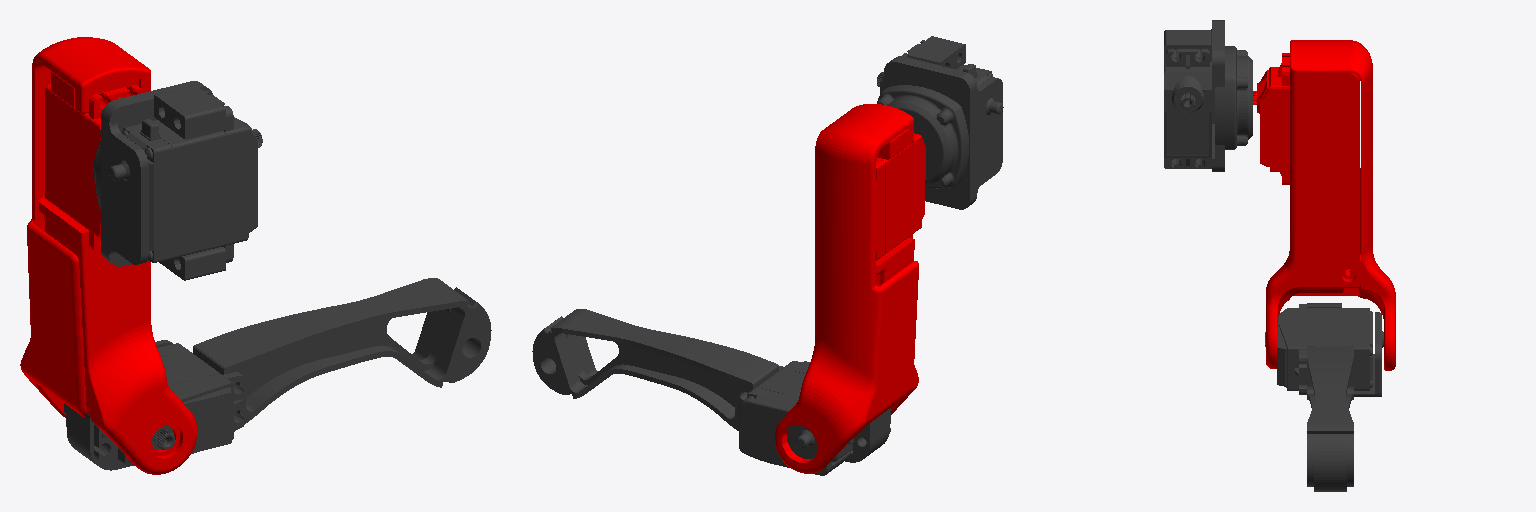
URDF robot description (left_leg_demo.urdf):
<?xml version="1.0" encoding="utf-8"?>
<!-- This URDF was automatically created by SolidWorks to URDF Exporter! Originally created by [author] ([email redacted]) 
     Commit Version: 1.6.0-4-g7f85cfe  Build Version: 1.6.7995.38578
     For more information, please see http://wiki.ros.org/sw_urdf_exporter -->
<robot
  name="left_leg_demo.urdf">
  <link
    name="base_link">
    <inertial>
      <origin
        xyz="0.00091789 -0.022241 0.00058415"
        rpy="-1.5708 0 0" />
      <mass
        value="0.060451" />
      <inertia
        ixx="1.5056E-05"
        ixy="-4.6406E-07"
        ixz="-1.2881E-08"
        iyy="1.9727E-05"
        iyz="5.0733E-08"
        izz="1.1321E-05" />
    </inertial>
    <visual>
      <origin
        xyz="0 0 0"
        rpy="-1.5708 0 0" />
      <geometry>
        <mesh
          filename="package://left_leg_demo/meshes/base_link.STL" /> <!-- TO DO-->
      </geometry>
      <material
        name="">
        <color
          rgba="0.3 0.3 0.3 1" />
      </material>
    </visual>
    <collision>
      <origin
        xyz="0 0 0"
        rpy="-1.5708 0 0" />
      <geometry>
        <mesh
          filename="package://left_leg_demo/meshes/base_link.STL" /> <!-- TO DO-->
      </geometry>
    </collision>
  </link>
  <link
    name="link_1">
    <inertial>
      <origin
        xyz="0.037666 0.0015824 -0.029923"
        rpy="0 0 0" />
      <mass
        value="0.11486" />
      <inertia
        ixx="1.9622E-05"
        ixy="1.6714E-06"
        ixz="6.5622E-07"
        iyy="0.00010977"
        iyz="7.3672E-07"
        izz="0.00010318" />
    </inertial>
    <visual>
      <origin
        xyz="0 0 0"
        rpy="0 0 0" />
      <geometry>
        <mesh
          filename="package://left_leg_demo/meshes/link_1.STL" /> <!-- TO DO-->
      </geometry>
      <material
        name="">
        <color
          rgba="1 0 0 1" />
      </material>
    </visual>
    <collision>
      <origin
        xyz="0 0 0"
        rpy="0 0 0" />
      <geometry>
        <mesh
          filename="package://left_leg_demo/meshes/link_1.STL" /> <!-- TO DO-->
      </geometry>
    </collision>
  </link>
  <joint
    name="joint_1"
    type="revolute">
    <origin
      xyz="0 0 0"
      rpy="3.1416 1.5708 1.5708" />
    <parent
      link="base_link" />
    <child
      link="link_1" />
    <axis
      xyz="0 0 -1" />
    <limit
      lower="-1.57"
      upper="1.57"
      effort="300"
      velocity="3" />
  </joint>
  <link
    name="link_2">
    <inertial>
      <origin
        xyz="0.02949 -0.027733 0.00049728"
        rpy="0 0 0" />
      <mass
        value="0.063194" />
      <inertia
        ixx="9.9875E-06"
        ixy="-3.2253E-06"
        ixz="3.6053E-06"
        iyy="7.0496E-05"
        iyz="2.9585E-07"
        izz="7.3609E-05" />
    </inertial>
    <visual>
      <origin
        xyz="0 0 0"
        rpy="0 0 0" />
      <geometry>
        <mesh
          filename="package://left_leg_demo/meshes/link_2.STL" /> <!-- TO DO-->
      </geometry>
      <material
        name="">
        <color
          rgba="0.3 0.3 0.3 1" />
      </material>
    </visual>
    <collision>
      <origin
        xyz="0 0 0"
        rpy="0 0 0" />
      <geometry>
        <mesh
          filename="package://left_leg_demo/meshes/link_2.STL" /> <!-- TO DO-->
      </geometry>
    </collision>
  </link>
  <joint
    name="joint_2"
    type="revolute">
    <origin
      xyz="0.10612 0.013829 -0.00487"
      rpy="1.5708 0 1.5708" />
    <parent
      link="link_1" />
    <child
      link="link_2" />
    <axis
      xyz="0 -1 0" />
    <limit
      lower="-0.785"
      upper="1.57"
      effort="200"
      velocity="3" />
  </joint>
</robot>

--- Facts derived from the render (not from the file) ---
3 views of the same robot in one strip: view 1: azimuth 30°, elevation 25°; view 2: azimuth 150°, elevation 25°; view 3: azimuth 270°, elevation 25° (orthographic).
Model left_leg_demo.urdf with 3 links and 2 joints (2 revolute), rooted at base_link, posed all joints at 0.
Visible links, largest first — view 1: link_1, link_2, base_link; view 2: link_1, link_2, base_link; view 3: link_1, link_2, base_link.
Link boxes in pixels (box(x1,y1,x2,y2)): link_1: box(20, 37, 196, 474); link_2: box(64, 278, 491, 470); base_link: box(93, 81, 262, 280); link_1: box(775, 104, 925, 473); link_2: box(532, 309, 890, 475); base_link: box(877, 36, 1003, 209); link_1: box(1253, 40, 1395, 370); link_2: box(1265, 303, 1383, 491); base_link: box(1164, 20, 1252, 171).
Bounding box of the posed robot: 0.1711 × 0.0981 × 0.1509 m (x, y, z).
Meshes: 3 distinct files referenced, 3 mesh visuals loaded (3 binary STL).
